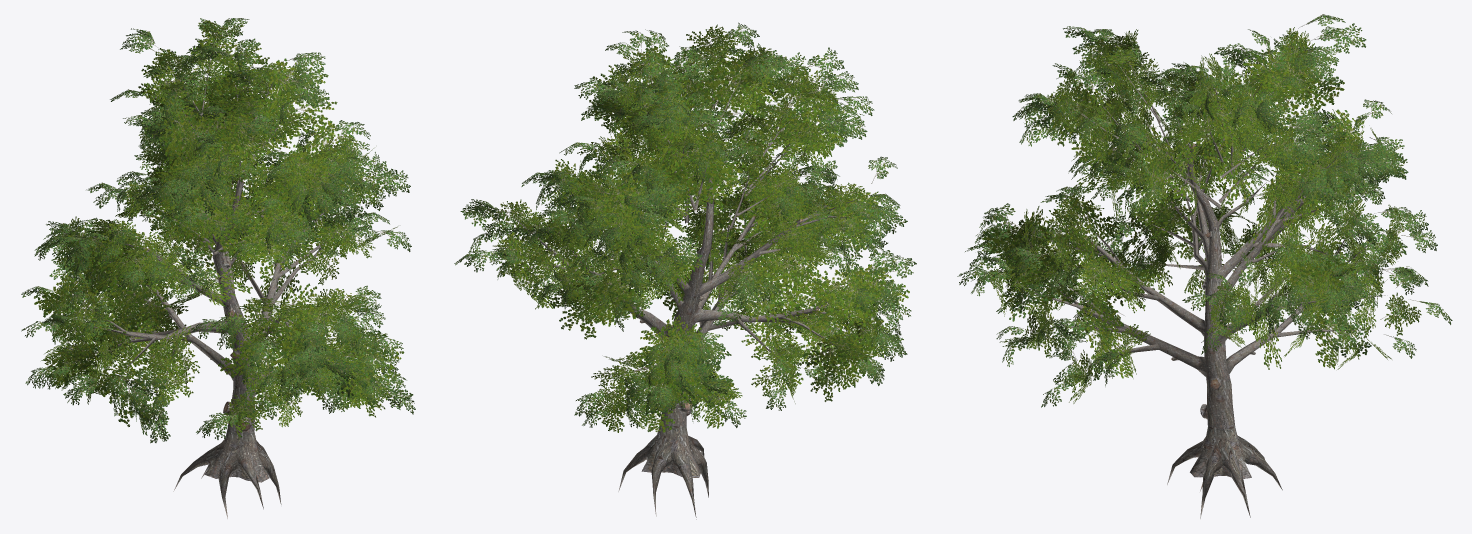
File: Tree_LOD1.glb
3 views of the same model, side by side, from view 1: azimuth 30°, elevation 25°; view 2: azimuth 150°, elevation 25°; view 3: azimuth 270°, elevation 25° (orthographic). The views are drawn at different scales.
Visible parts, largest first — view 1: Tree_LOD1; view 2: Tree_LOD1; view 3: Tree_LOD1.
Boxes of the visible parts, x1=… form: Tree_LOD1: x1=21, y1=18, x2=415, y2=518; Tree_LOD1: x1=454, y1=22, x2=916, y2=519; Tree_LOD1: x1=957, y1=14, x2=1452, y2=518.
Bounding box in the file's own units: 19.97 × 21.14 × 20.08.
5 materials, 5 textured.
